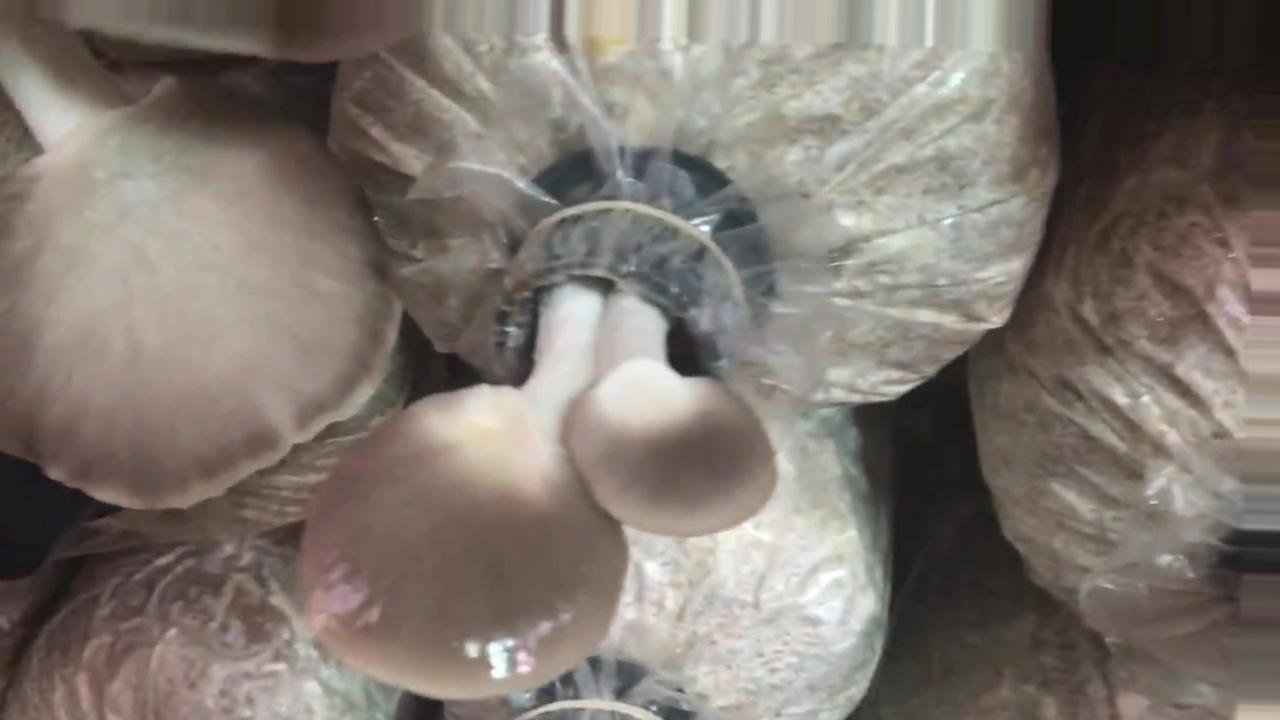nam: (293, 162, 778, 702), (2, 1, 403, 521)
